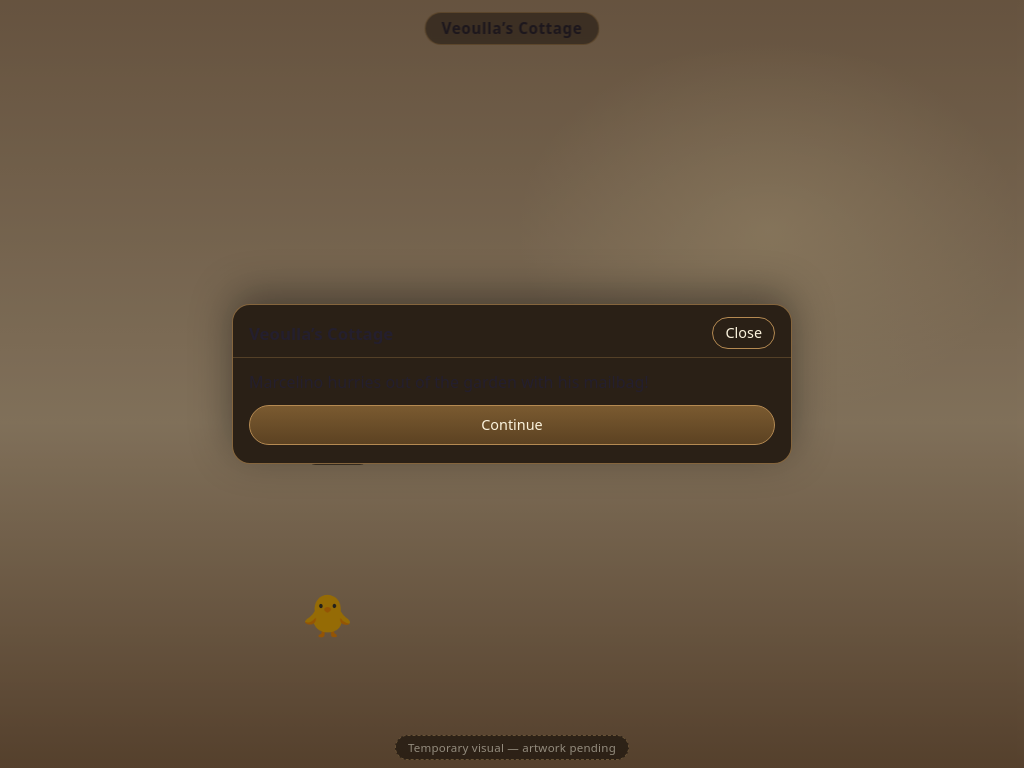
Test case: first delivery failure feedback › keeps the delivery actionable and incomplete when content is missing
Step 1. Click the button with test id "marcelino-deliver" → [512, 425], box [249,405,775,445]
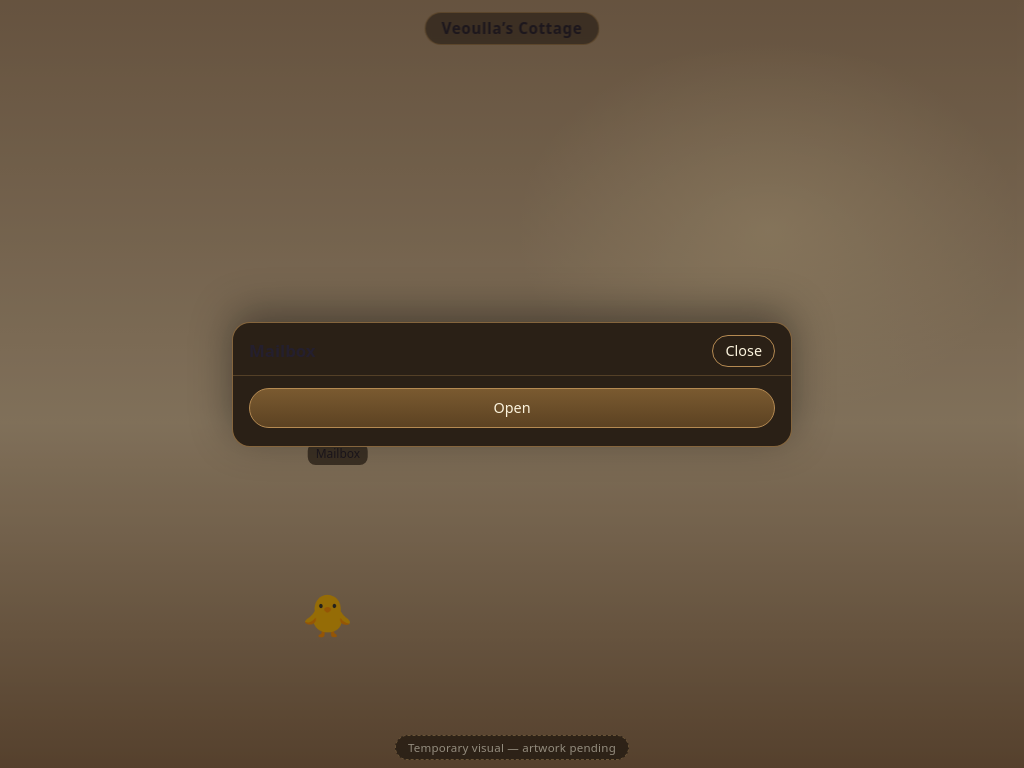
Step 2. Click the button with test id "marcelino-hand-over" → [512, 408], box [249,388,775,428]
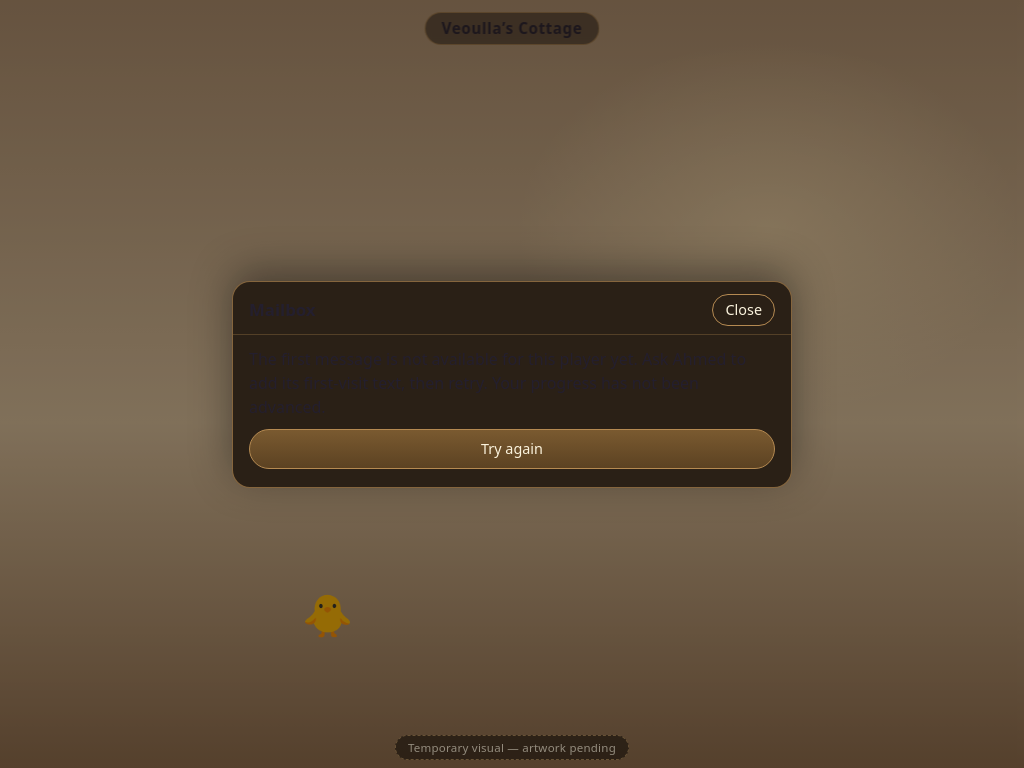
Check: the message shows "Ask Ahmed to add its first-visit text", box [249,348,746,418]
Check: the button with test id "marcelino-hand-over" reads "Try again", box [249,428,775,468]
